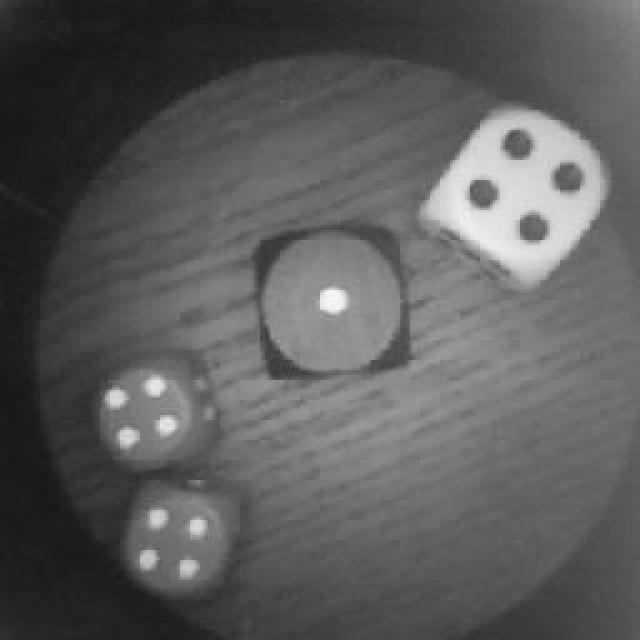dice_1: (253, 225, 415, 383)
dice_4: (433, 98, 615, 288), (115, 475, 245, 603), (93, 353, 215, 475)
